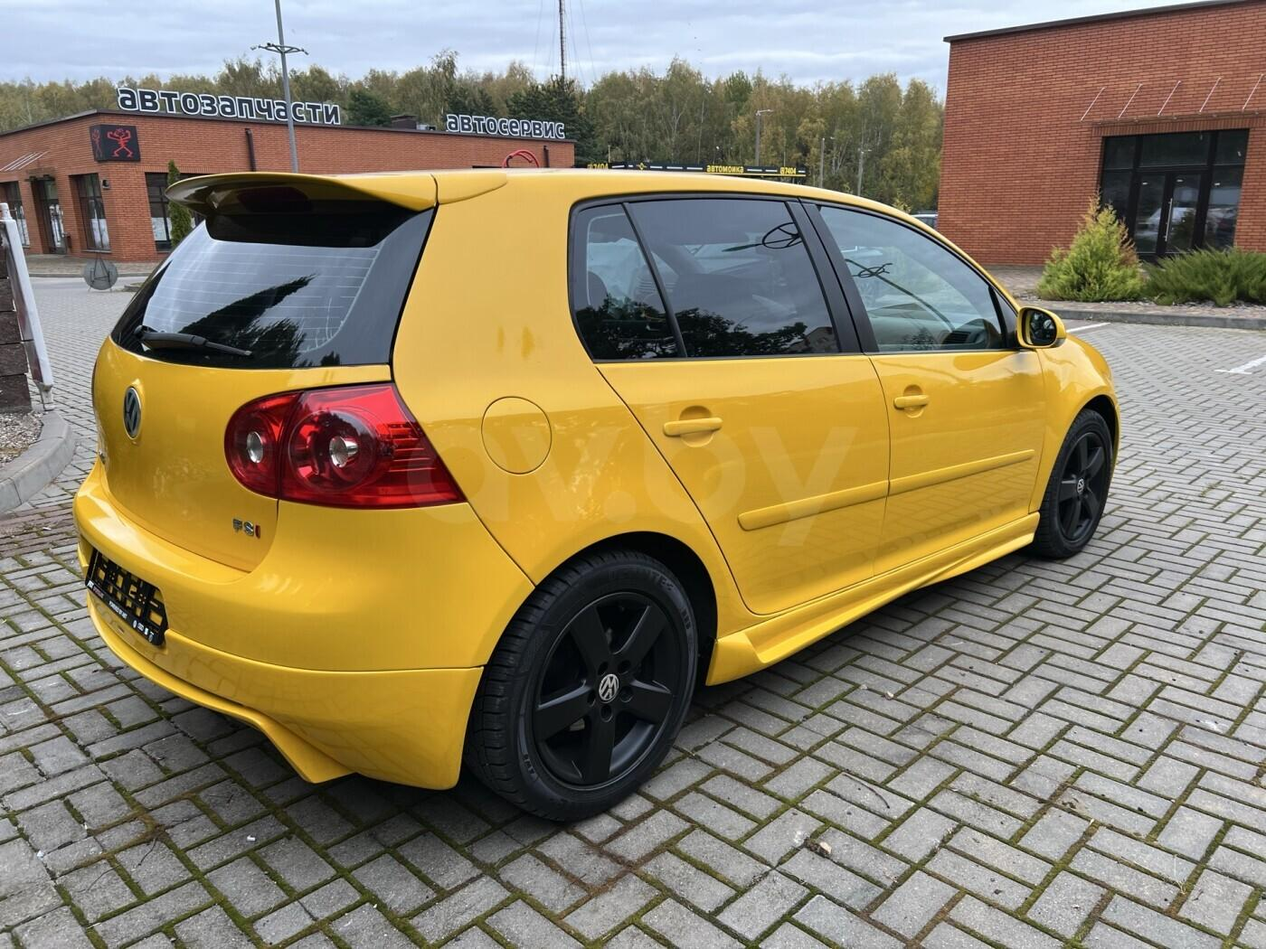Golf_2003-2009: (56, 163, 1122, 817)
